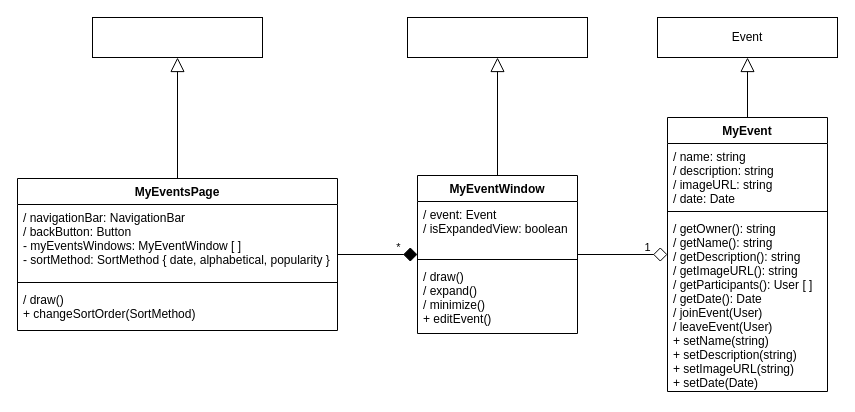
Image size: 855x412. Some labels were removed from this diagram. The centre of each missing label's shape, as x and y in pixels:
EventWindow: point 497,37
Page: point 177,37
